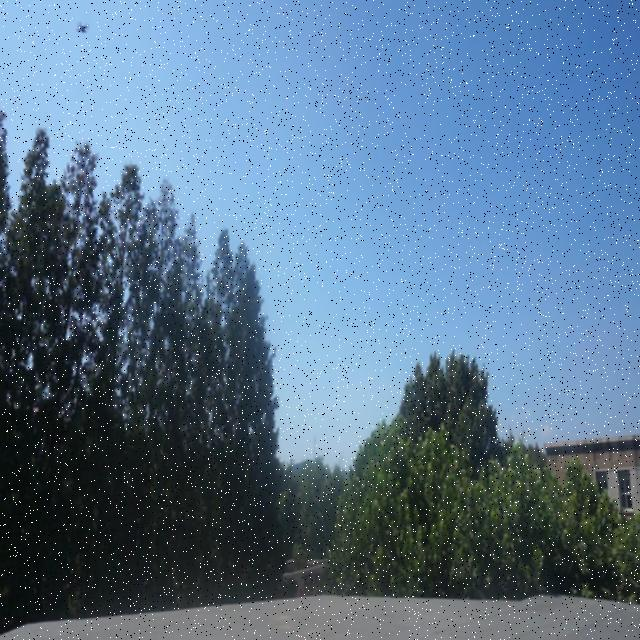UAV: (75, 21, 90, 34)
